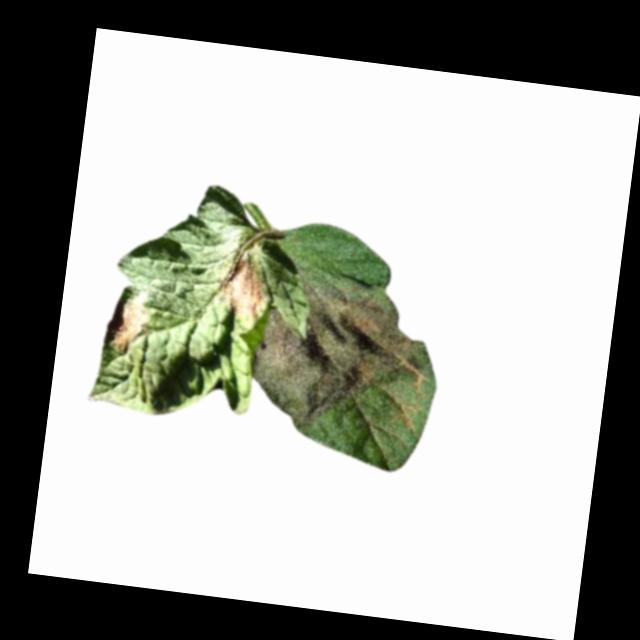Late_blight: (242, 260, 438, 446), (212, 255, 269, 324), (102, 296, 149, 359)
